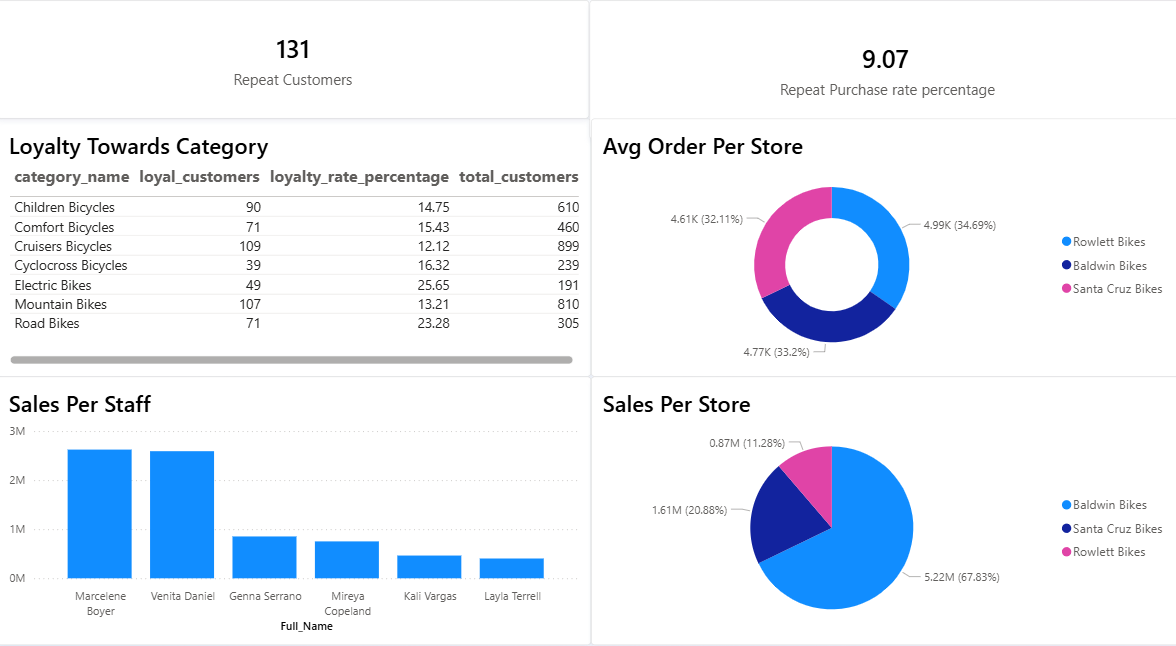

This screenshot's page, from the dashboard's own definition file:
{"tool":"powerbi","page":{"name":"Page 2","canvas":[1280,720],"ordinal":1},"visuals":[{"type":"tableEx","title":"Loyalty Towards Category","fields":{"Values":["product categories or brands influence loyalty..category_name","product categories or brands influence loyalty..loyal_customers","product categories or brands influence loyalty..loyalty_rate_percentage","product categories or brands influence loyalty..total_customers"]},"box":[0,127.9,641.2,278.5],"z":0},{"type":"card","fields":{"Values":["Sum(Repeat Customers.Repeat_Customers)"]},"box":[0,0,639.6,127.9],"z":1},{"type":"card","fields":{"Values":["Sum(Repeat Purchase rates per Customer.repeat_purchase_rate_percentage)"]},"box":[639.6,0,639.6,150.6],"z":2},{"type":"donutChart","title":"Avg Order Per Store","fields":{"Category":["Avg Order Per Store.store_name"],"Y":["Sum(Avg Order Per Store.Avg_Order_Value)"]},"box":[641.2,127.9,639.6,278.5],"z":3},{"type":"clusteredColumnChart","title":"Sales Per Staff","fields":{"Category":["Performance of Staff.Full_Name"],"Y":["Sum(Performance of Staff.Sales_By_Staff)"]},"box":[0,406.4,641.2,289.8],"z":4},{"type":"pieChart","title":"Sales Per Store","fields":{"Category":["Sales Per Store.store_name"],"Y":["Sum(Sales Per Store.Total_Order_Value)"]},"box":[641.2,406.4,639.6,289.8],"z":5}]}

Visuals, with their boxes in screenshot pixels (x1, y1, x2, y2), scaled from the page's 1280x720 canvas onto the 1176x646 screenshot:
"Loyalty Towards Category" tableEx: locate(0, 115, 589, 365)
card - Sum(Repeat Customers.Repeat_Customers): locate(0, 0, 588, 115)
card - Sum(Repeat Purchase rates per Customer.repeat_purchase_rate_percentage): locate(588, 0, 1175, 135)
"Avg Order Per Store" donutChart: locate(589, 115, 1175, 365)
"Sales Per Staff" clusteredColumnChart: locate(0, 365, 589, 625)
"Sales Per Store" pieChart: locate(589, 365, 1175, 625)
